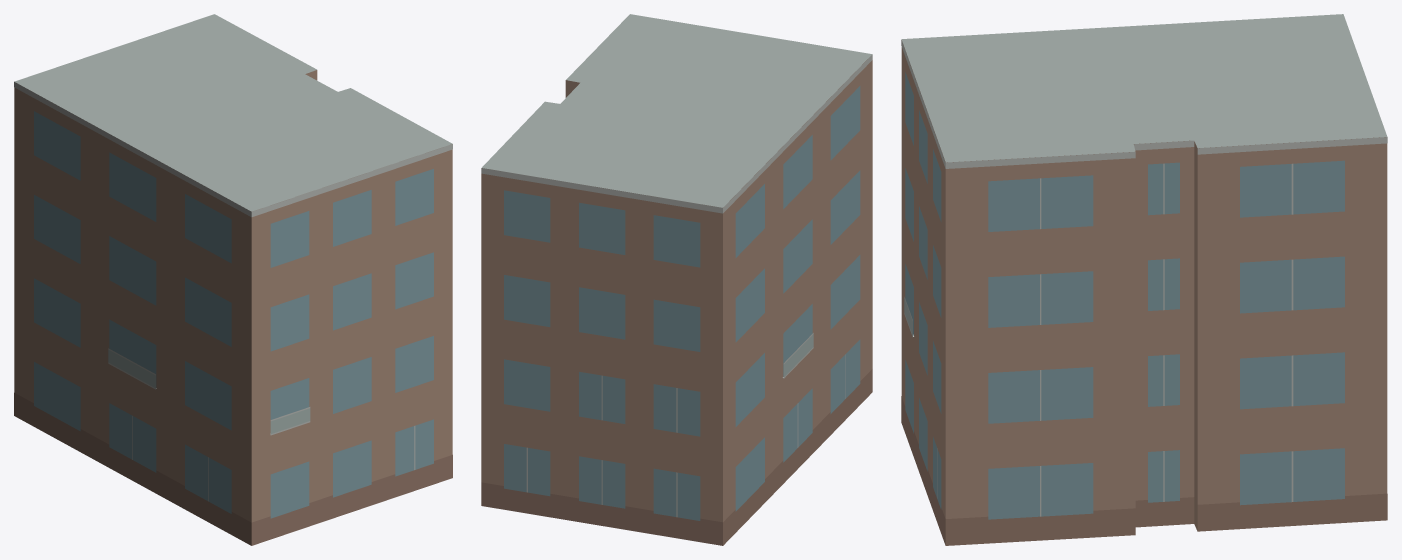
The model's file is survey-upis-32958721.glb.
3 renders of one model, left to right at view 1: azimuth 30°, elevation 25°; view 2: azimuth 150°, elevation 25°; view 3: azimuth 270°, elevation 25°, orthographic. The views are drawn at different scales.
Visible parts, largest first — view 1: survey-upis-32958721.tmp; view 2: survey-upis-32958721.tmp; view 3: survey-upis-32958721.tmp.
Boxes of the visible parts, bbox=[...] form: survey-upis-32958721.tmp: bbox=[14, 14, 452, 545]; survey-upis-32958721.tmp: bbox=[481, 14, 872, 545]; survey-upis-32958721.tmp: bbox=[901, 14, 1387, 545].
Size of the model in its own units: 11.97 by 14.4 by 16.56.
